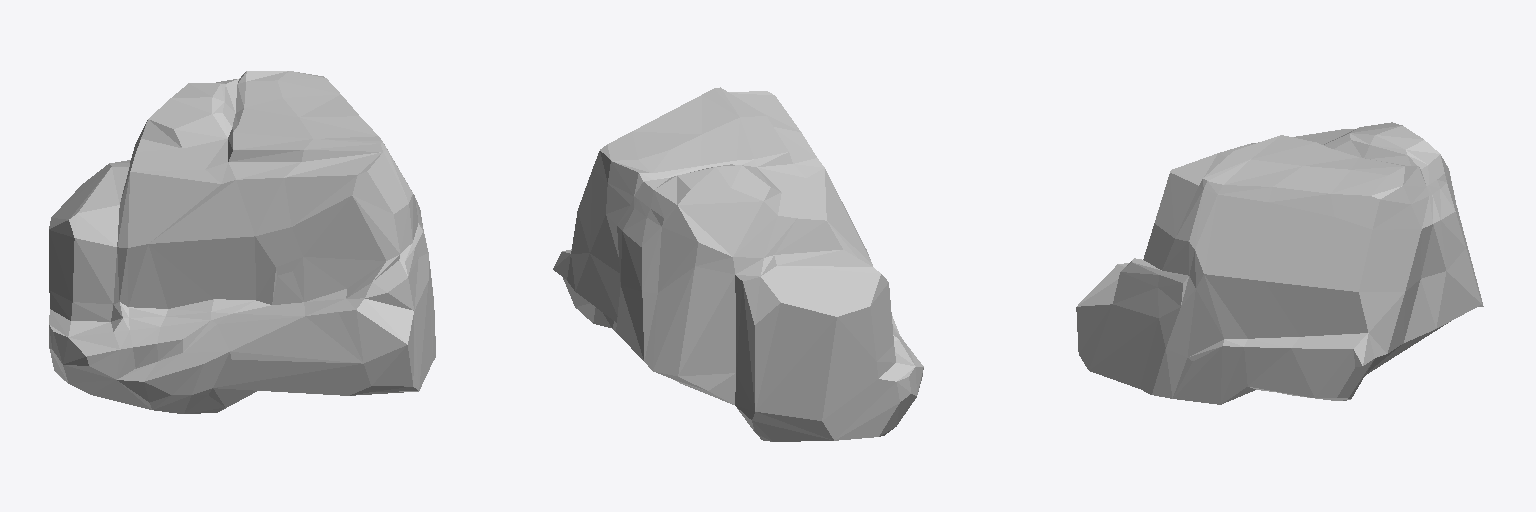
Rendered from Rock_Medium_3.obj.
3 views of the same model, side by side, from view 1: azimuth 30°, elevation 25°; view 2: azimuth 150°, elevation 25°; view 3: azimuth 270°, elevation 25° (orthographic).
Visible parts, largest first — view 1: Rock_Medium_3; view 2: Rock_Medium_3; view 3: Rock_Medium_3.
Boxes of the visible parts, x1,y1,x2,y2 form: Rock_Medium_3: [49, 71, 435, 413]; Rock_Medium_3: [553, 87, 923, 441]; Rock_Medium_3: [1076, 122, 1483, 404].
Bounding box in the file's own units: 3.42 × 2.32 × 3.48.